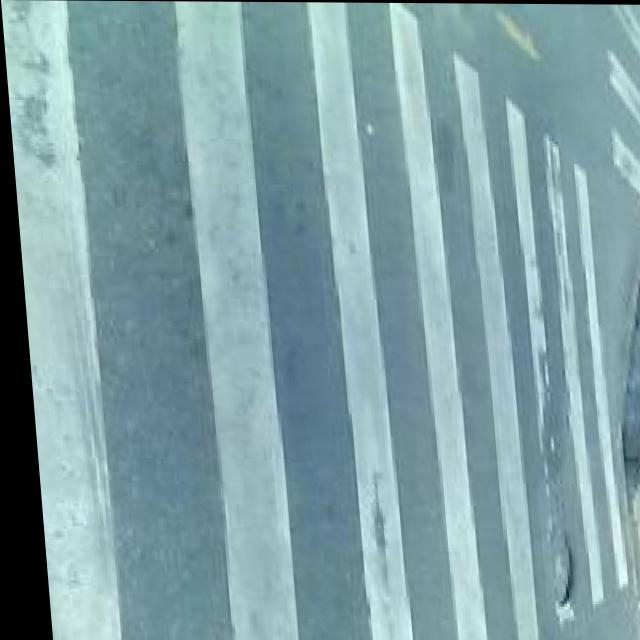zebra: (15, 164, 622, 582)
